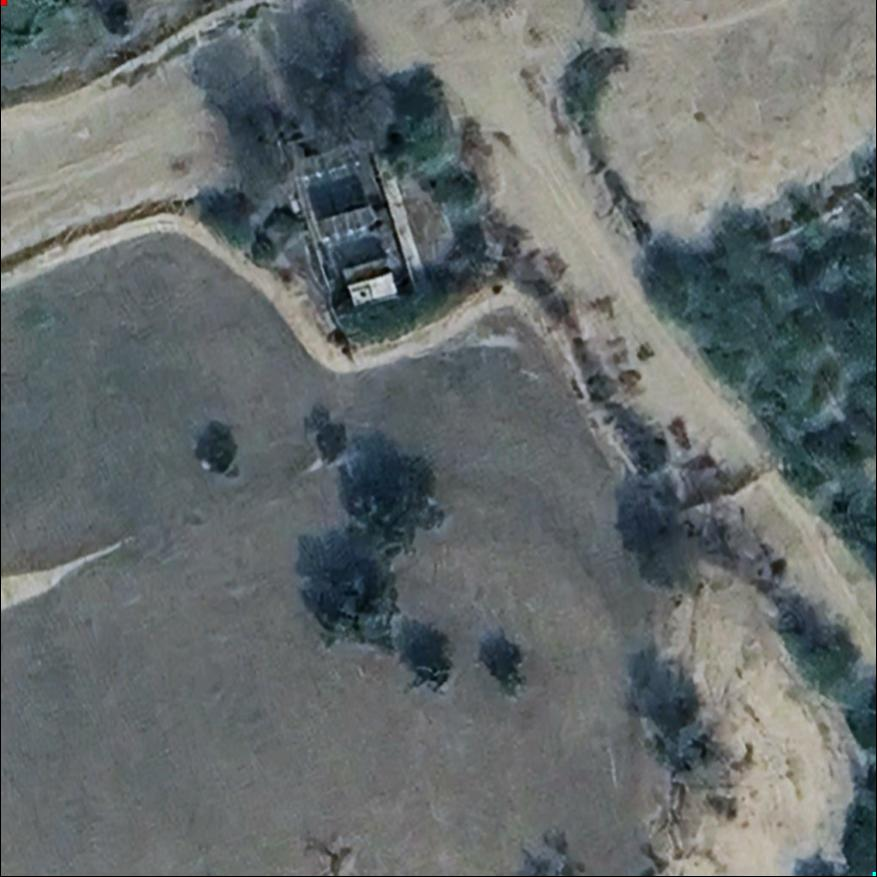Solarpanel: (308, 202, 381, 245)
